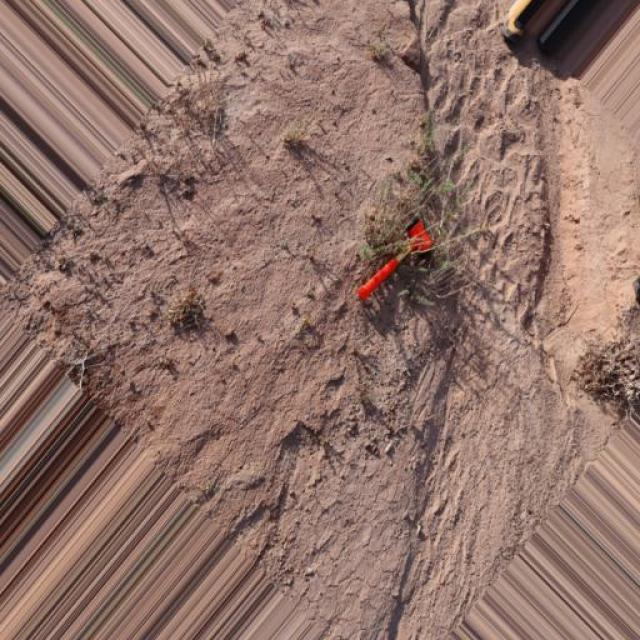mallet: (353, 216, 432, 302)
